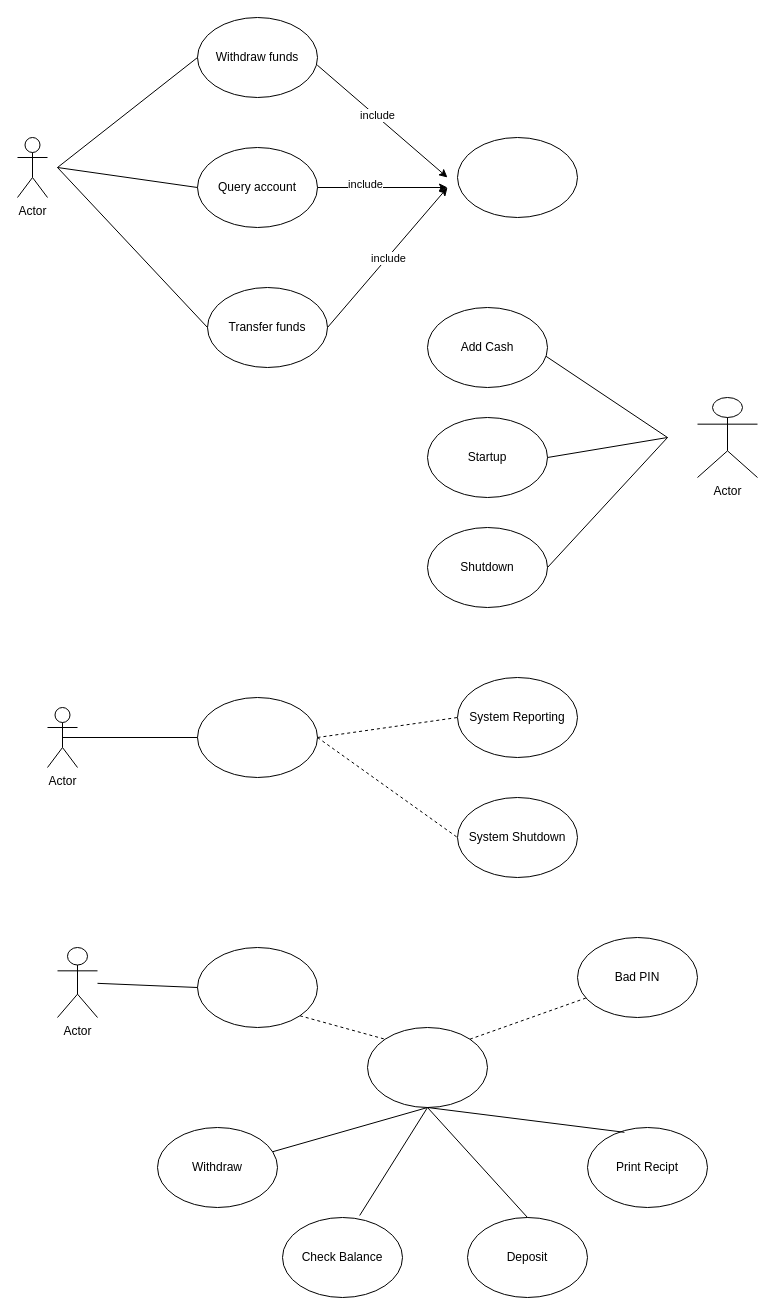
The diagram is 775 pixels wide and 1315 high, and some of its shapes have lost their labels. Here are the shapes that lost their labels. From the top down, the centre of each, then its label:
At pixel 517 177: "Validate PIN".
At pixel 257 737: "System Maintenance".
At pixel 257 987: "Login".
At pixel 427 1067: "Transaction".
